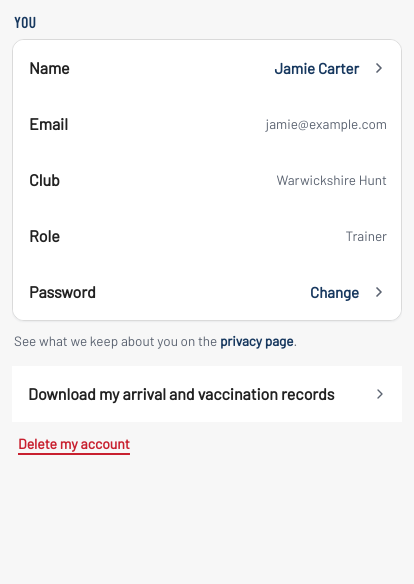
Test case: AccountPage › shows the reason when the name can’t be saved, and keeps the box open
Click the button with aria-label "Name:".
click(49, 67)  # box [13,40,401,96]
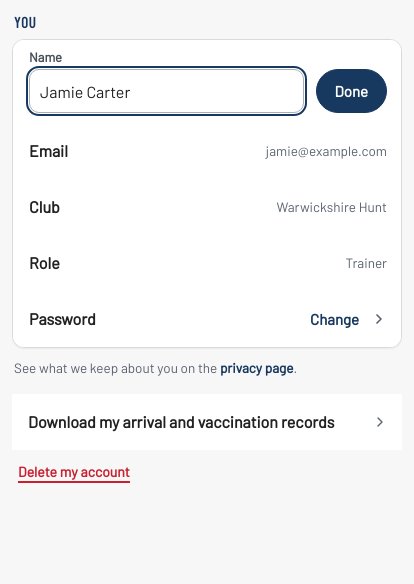
Type " Jr" into the field labelled "Name".
click(166, 91); type(" Jr")  # box [29,69,304,113]
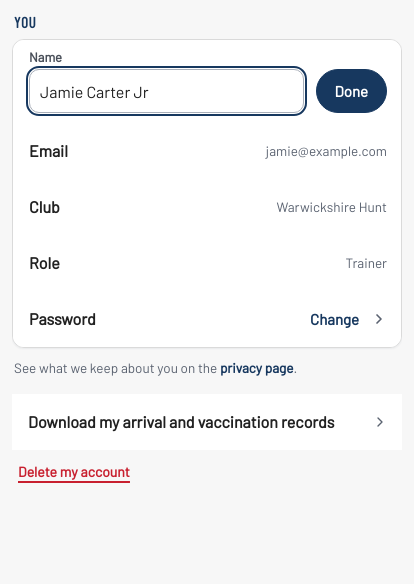
Click the button "Done".
click(351, 91)  # box [316,69,387,113]
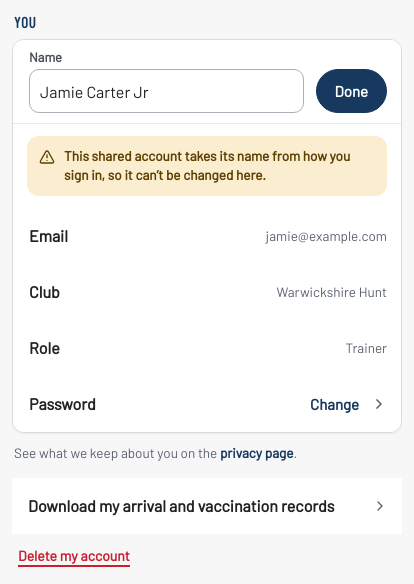
expect the field labelled "Name" holds "Jamie Carter Jr": met, box [29,69,304,113]
expect the message shows "takes its name from how you sign in": met, box [64,147,350,183]
